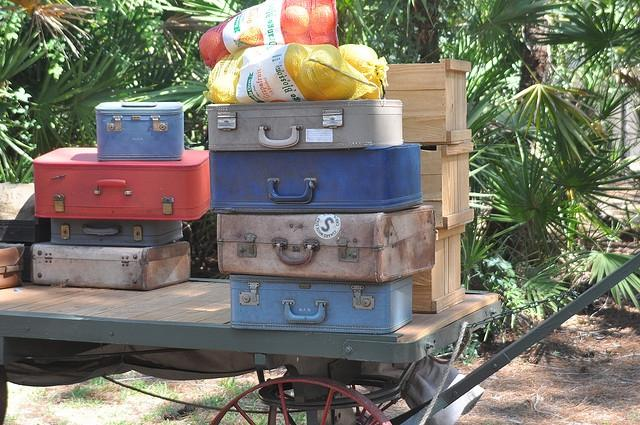orange: (280, 6, 310, 35), (309, 5, 335, 34), (199, 31, 224, 61), (234, 26, 264, 47), (310, 30, 333, 40)
